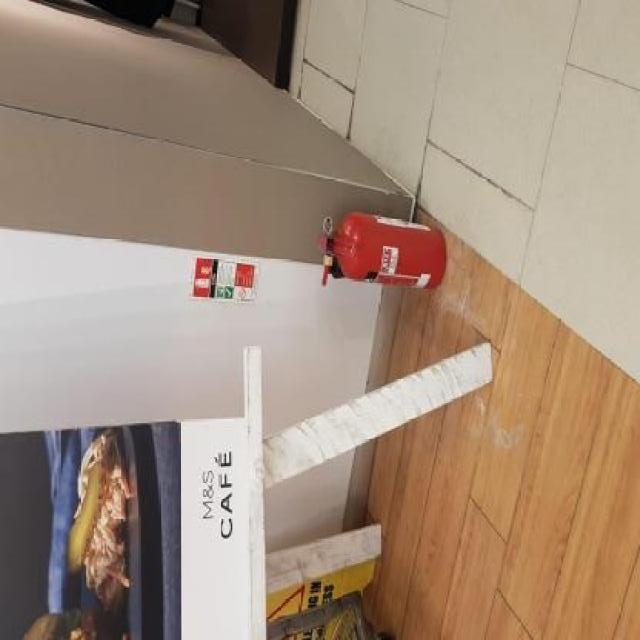fire extinguisher: (317, 210, 452, 292)
